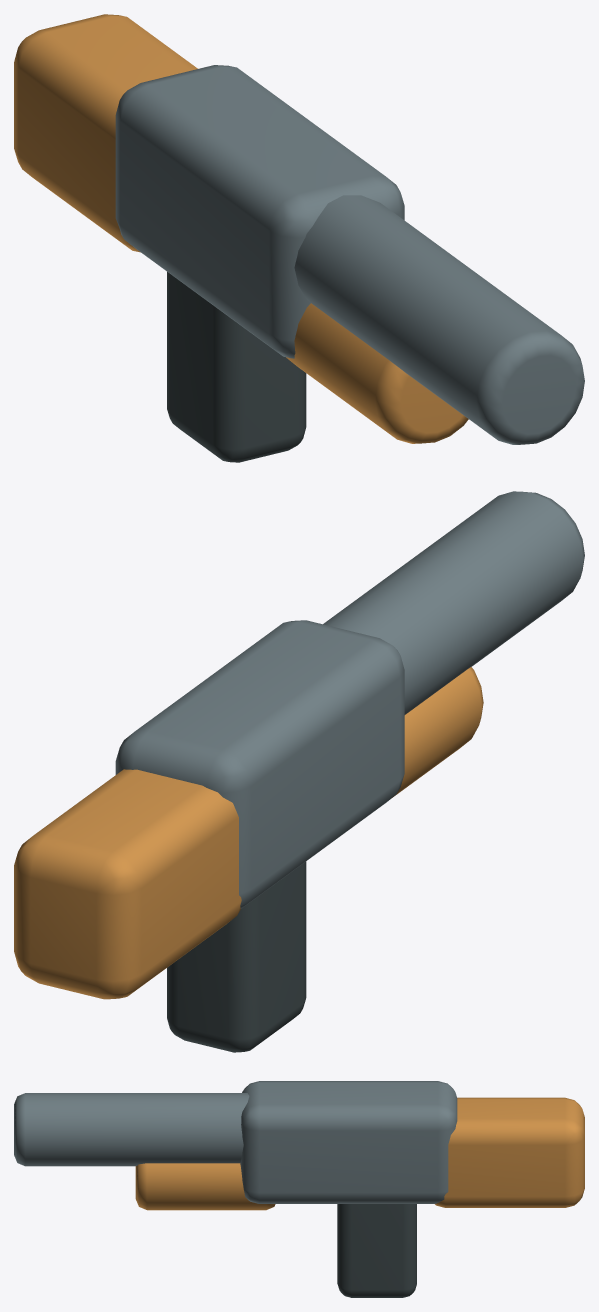
File: weapon_shotgun.glb
The picture shows the model from 3 angles, top to bottom: view 1: azimuth 30°, elevation 25°; view 2: azimuth 150°, elevation 25°; view 3: azimuth 270°, elevation 25°; orthographic projection. The views are drawn at different scales.
Visible parts, largest first — view 1: Receiver.007, Weapon barrel.007, Stock.005, Grip.007, Shotgun pump; view 2: Receiver.007, Stock.005, Weapon barrel.007, Grip.007, Shotgun pump; view 3: Receiver.007, Weapon barrel.007, Stock.005, Grip.007, Shotgun pump.
Boxes of the visible parts, bbox=[...] form: Receiver.007: bbox=[115, 65, 404, 358]; Weapon barrel.007: bbox=[294, 195, 584, 444]; Stock.005: bbox=[14, 14, 197, 252]; Grip.007: bbox=[167, 272, 306, 462]; Shotgun pump: bbox=[286, 303, 468, 443]; Receiver.007: bbox=[115, 620, 404, 908]; Stock.005: bbox=[14, 769, 241, 999]; Weapon barrel.007: bbox=[323, 491, 584, 714]; Grip.007: bbox=[167, 861, 306, 1052]; Shotgun pump: bbox=[392, 667, 483, 797]; Receiver.007: bbox=[240, 1081, 457, 1203]; Weapon barrel.007: bbox=[14, 1093, 249, 1166]; Stock.005: bbox=[435, 1097, 584, 1207]; Grip.007: bbox=[337, 1204, 416, 1297]; Shotgun pump: bbox=[135, 1163, 275, 1210].
Bounding box in the file's own units: 0.16 × 0.38 × 1.
